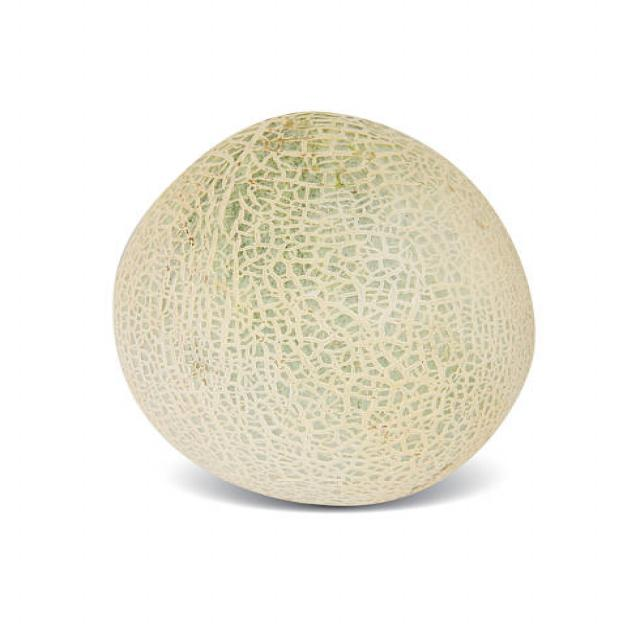Melon: (106, 109, 532, 512)
